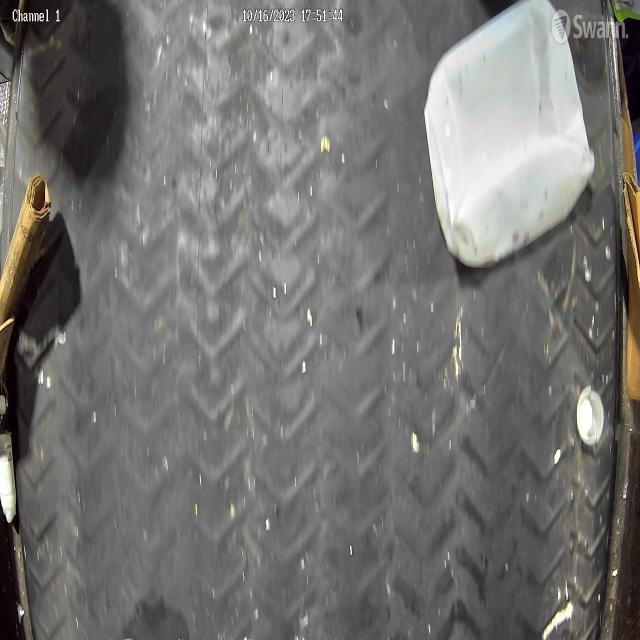milk_jug: (424, 1, 595, 269)
